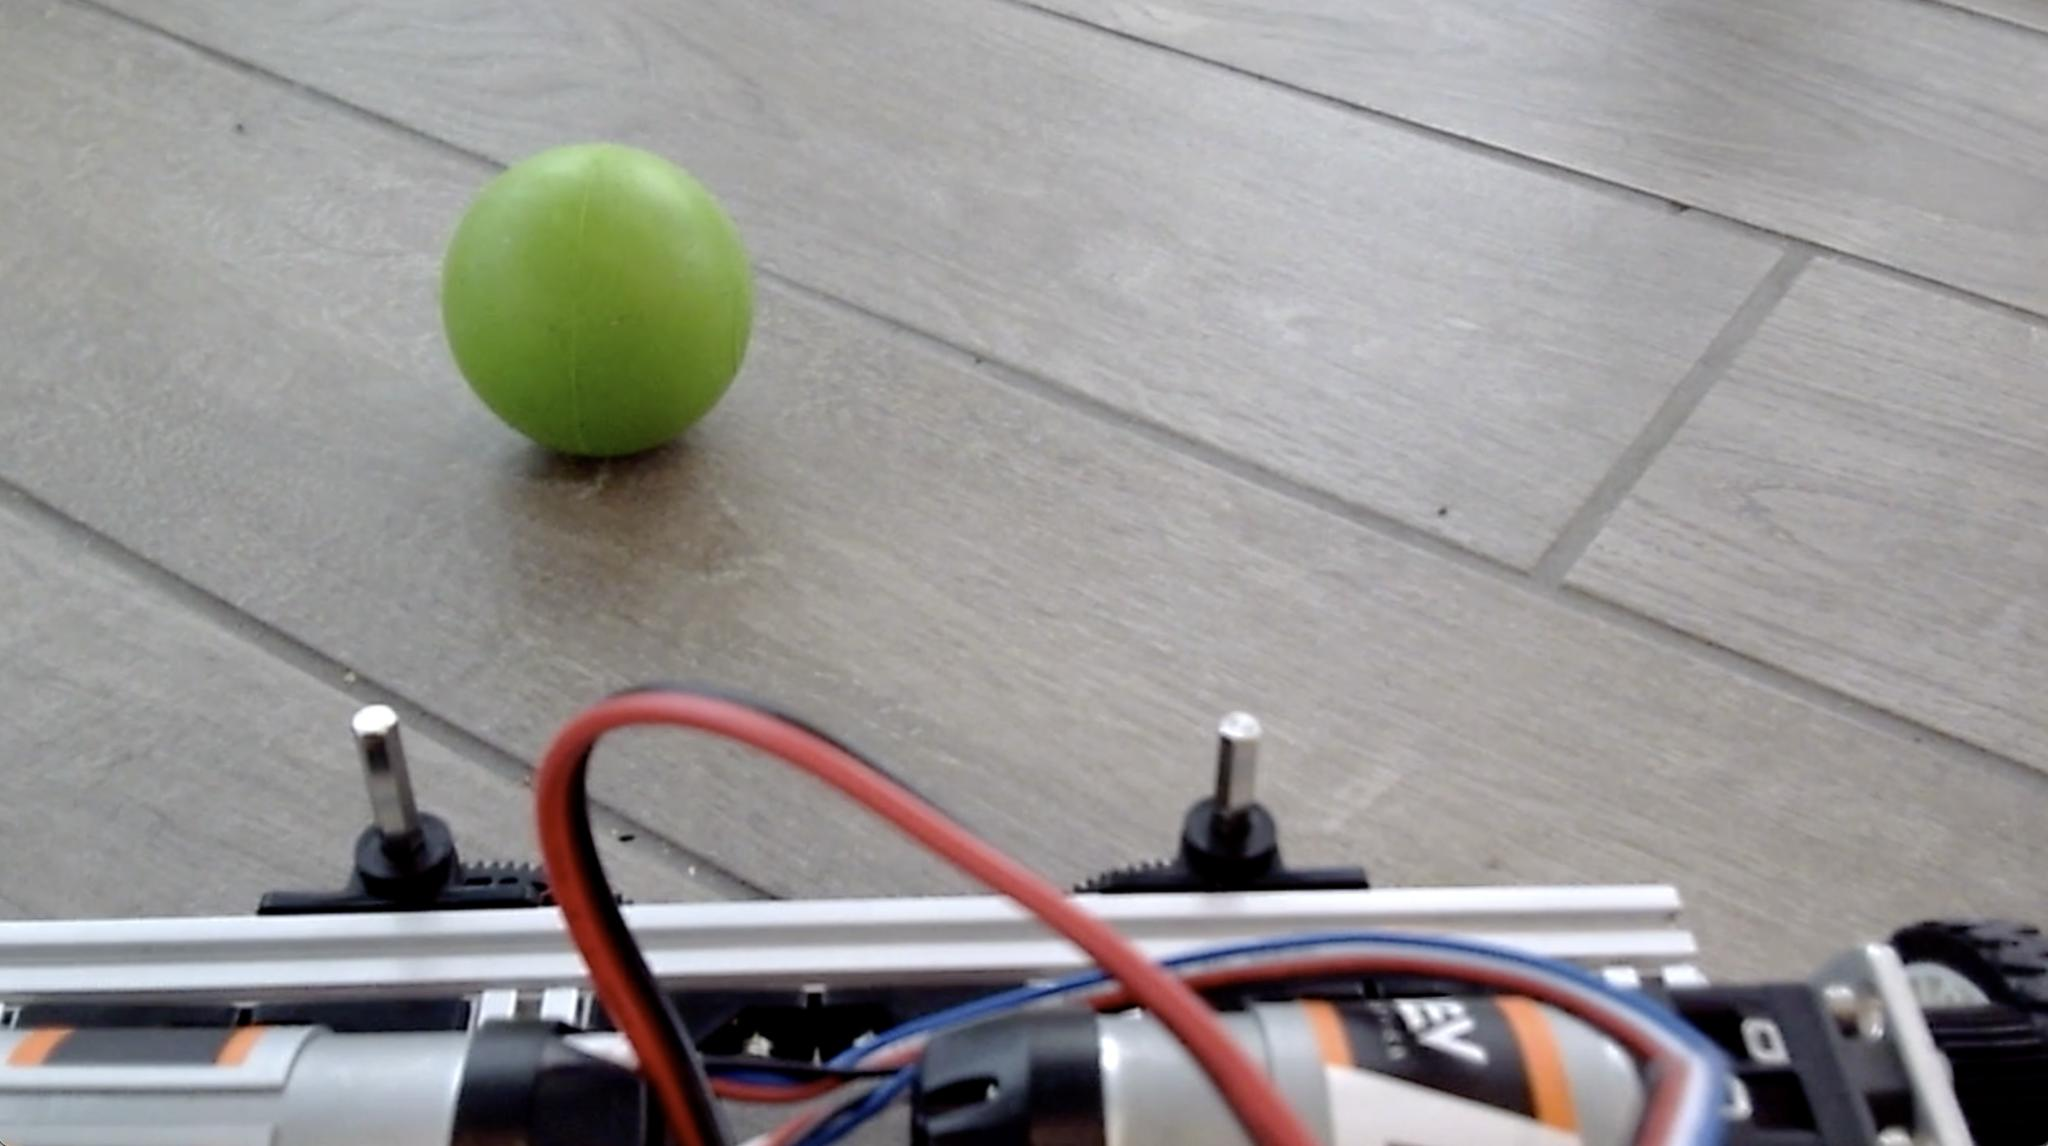greenball: (437, 138, 755, 463)
